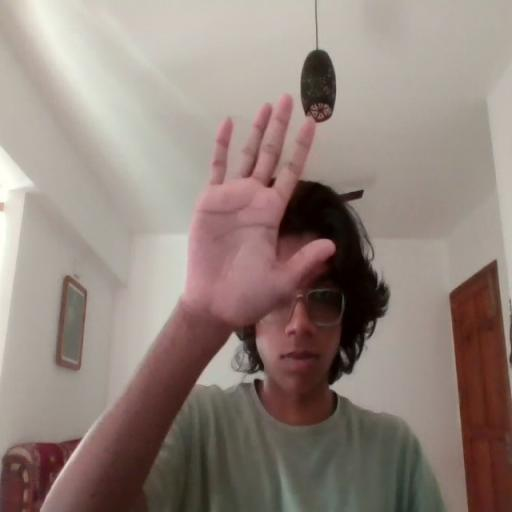Paper: (180, 93, 336, 321)
